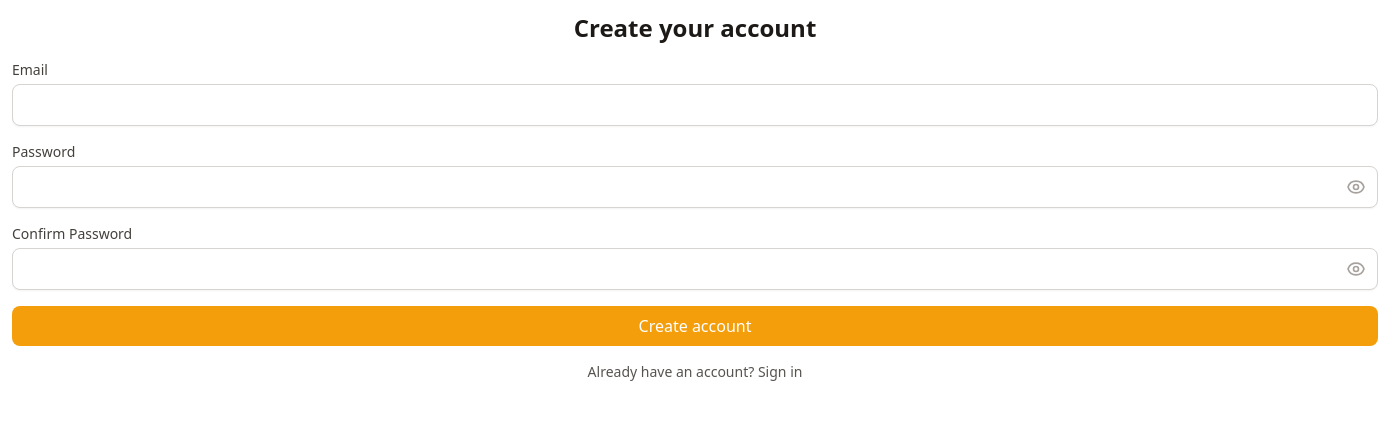
Test: RegisterForm › shows error when email is empty
Click the button "Create account" at (695, 326), box [12,306,1378,346]
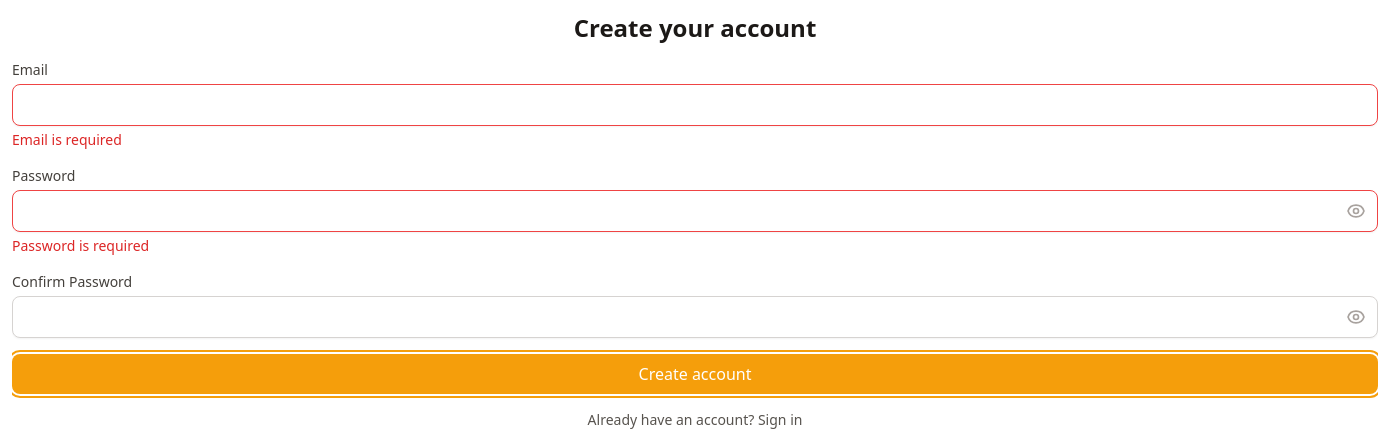
Now the text "Email is required" is shown, box [12,130,122,149]
